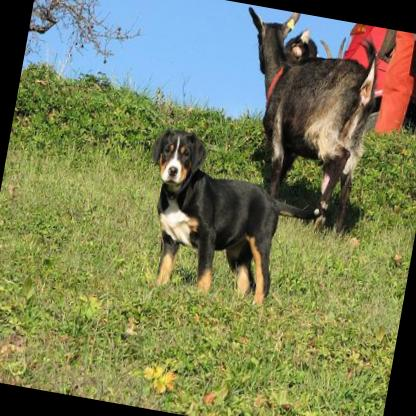Greater_Swiss_Mountain_dog: (128, 122, 328, 310)
